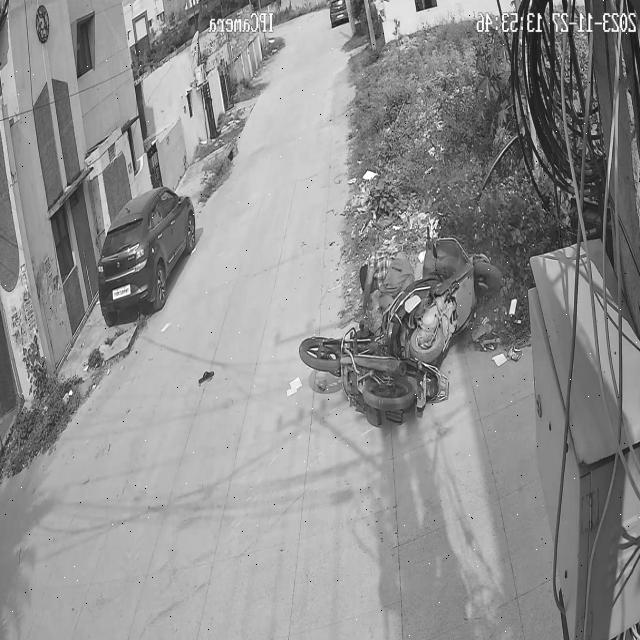accident: (294, 213, 510, 426)
